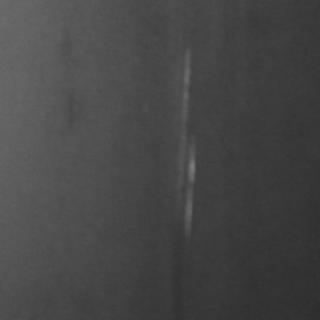inclusion: (59, 74, 81, 126)
scratches: (170, 46, 197, 238)
